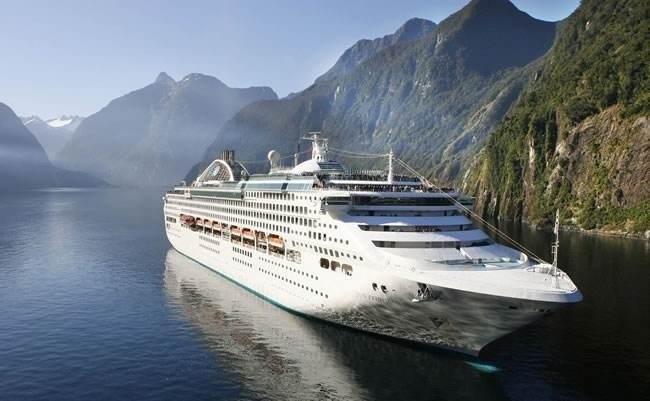youlun: (165, 139, 582, 380)
